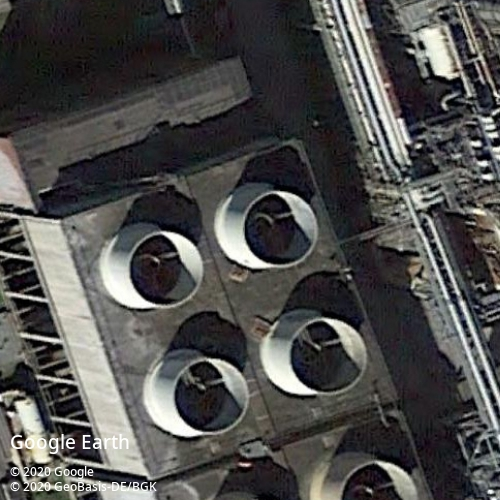Vent: (287, 317, 367, 395), (126, 230, 204, 308), (174, 357, 249, 435), (244, 190, 318, 268)
